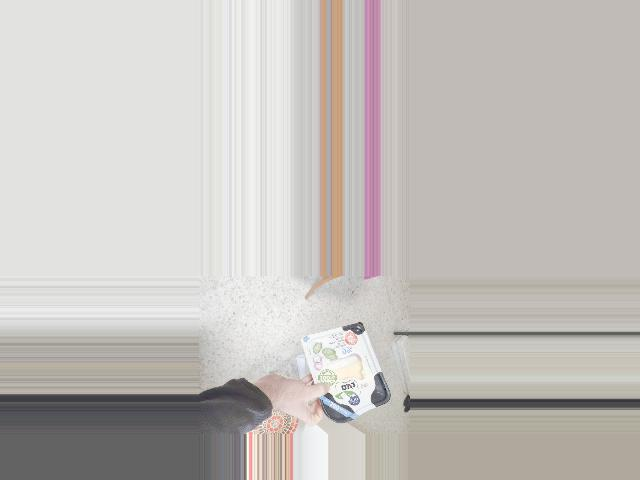cheese: (309, 323, 377, 419)
